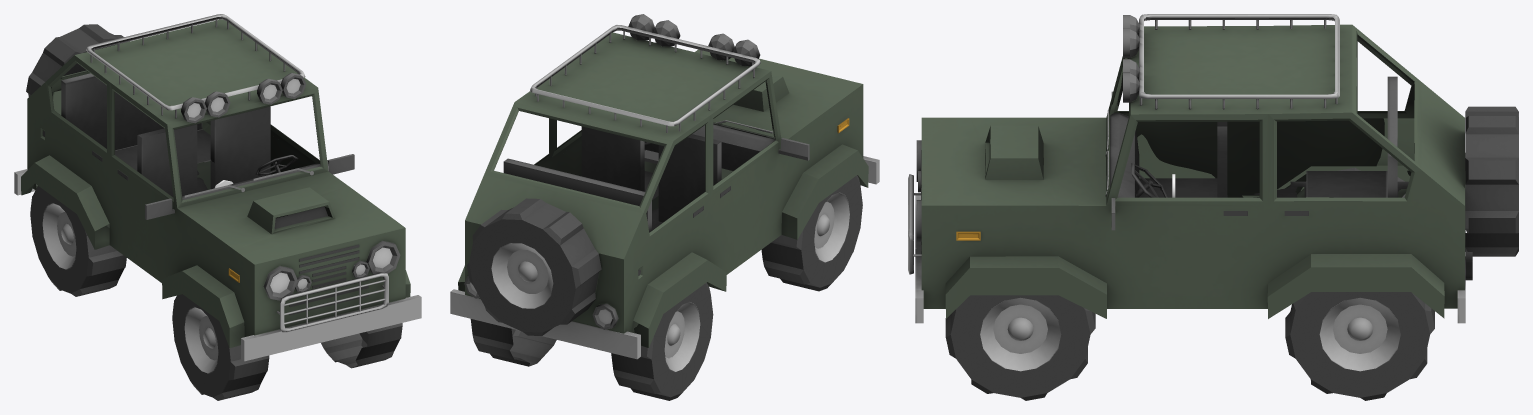
Rendered from car.obj.
3 renders of one model, left to right at view 1: azimuth 30°, elevation 25°; view 2: azimuth 150°, elevation 25°; view 3: azimuth 270°, elevation 25°, orthographic. The views are drawn at different scales.
Visible parts, largest first — view 1: Box002_Mesh; view 2: Box002_Mesh; view 3: Box002_Mesh.
Boxes of the visible parts, box(x1,y1,x2,y2) form: Box002_Mesh: box(14, 14, 421, 400); Box002_Mesh: box(450, 14, 879, 400); Box002_Mesh: box(908, 14, 1518, 400).
Size of the model in its own units: 0.519 by 0.6137 by 1.1.
Materials: 2 (2 with a texture image).
